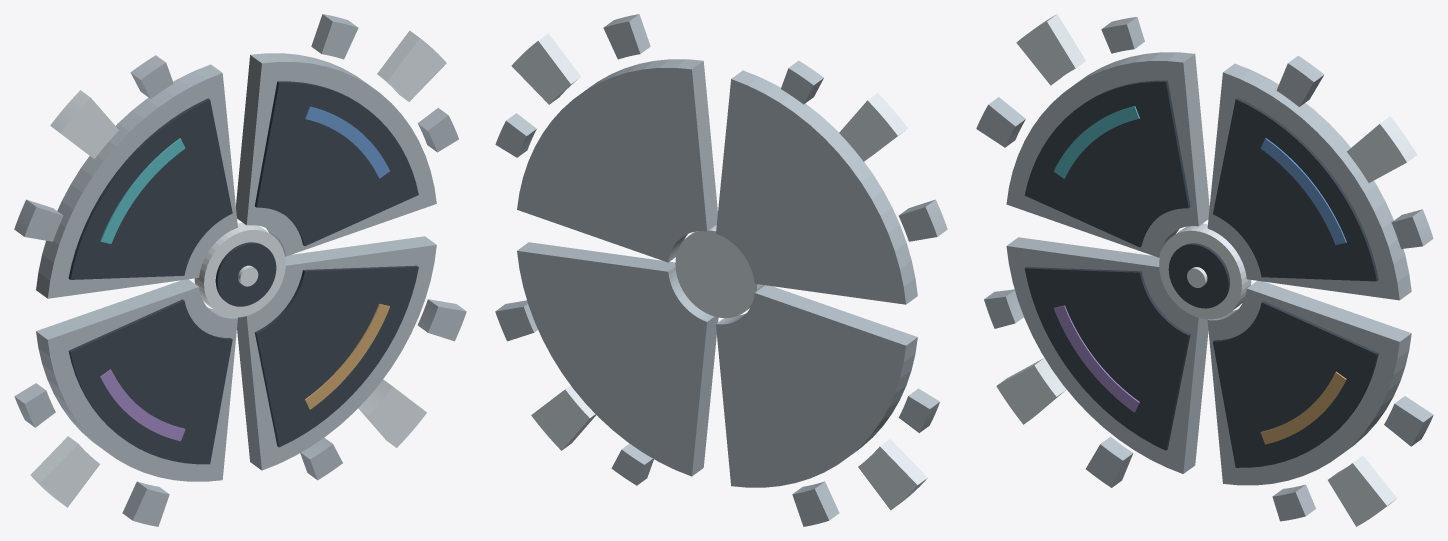
The model's file is stack_iris.glb.
3 renders of one model, left to right at view 1: azimuth 30°, elevation 25°; view 2: azimuth 150°, elevation 25°; view 3: azimuth 330°, elevation 25°, orthographic.
Parts seen in each view (by area): view 1: STACK / sector 02 inset, STACK / sector 04 inset, STACK / sector 01 inset, STACK / sector 03 inset, STACK / sector 02 body, STACK / sector 04 body, STACK / sector 03 body, STACK / sector 01 body, STACK / central bearing, STACK / central recess, STACK / fragment 03 02, STACK / fragment 01 02 (+14 smaller); view 2: STACK / sector 02 body, STACK / sector 04 body, STACK / sector 03 body, STACK / sector 01 body, STACK / central bearing, STACK / fragment 01 02, STACK / fragment 03 02, STACK / fragment 02 02, STACK / fragment 04 02, STACK / fragment 01 03, STACK / fragment 03 03, STACK / fragment 02 03 (+5 smaller); view 3: STACK / sector 03 inset, STACK / sector 01 inset, STACK / sector 02 inset, STACK / sector 04 inset, STACK / sector 01 body, STACK / sector 03 body, STACK / sector 04 body, STACK / sector 02 body, STACK / central bearing, STACK / central recess, STACK / fragment 04 02, STACK / fragment 02 02 (+14 smaller).
Boxes of the visible parts, x1=… form: STACK / sector 02 inset: x1=68, y1=98, x2=232, y2=279; STACK / sector 04 inset: x1=254, y1=265, x2=418, y2=447; STACK / sector 01 inset: x1=255, y1=81, x2=418, y2=245; STACK / sector 03 inset: x1=68, y1=299, x2=232, y2=464; STACK / sector 02 body: x1=36, y1=64, x2=237, y2=298; STACK / sector 04 body: x1=237, y1=236, x2=436, y2=470; STACK / sector 03 body: x1=36, y1=279, x2=237, y2=481; STACK / sector 01 body: x1=236, y1=53, x2=436, y2=256; STACK / central bearing: x1=194, y1=223, x2=285, y2=317; STACK / central recess: x1=215, y1=242, x2=276, y2=306; STACK / fragment 03 02: x1=30, y1=436, x2=99, y2=507; STACK / fragment 01 02: x1=377, y1=30, x2=446, y2=101; STACK / sector 02 body: x1=716, y1=70, x2=917, y2=304; STACK / sector 04 body: x1=517, y1=242, x2=718, y2=476; STACK / sector 03 body: x1=716, y1=285, x2=917, y2=487; STACK / sector 01 body: x1=517, y1=59, x2=717, y2=262; STACK / central bearing: x1=675, y1=225, x2=764, y2=318; STACK / fragment 01 02: x1=511, y1=33, x2=580, y2=104; STACK / fragment 03 02: x1=858, y1=439, x2=927, y2=510; STACK / fragment 02 02: x1=839, y1=93, x2=907, y2=161; STACK / fragment 04 02: x1=531, y1=385, x2=595, y2=450; STACK / fragment 01 03: x1=603, y1=14, x2=650, y2=59; STACK / fragment 03 03: x1=792, y1=481, x2=839, y2=526; STACK / fragment 02 03: x1=898, y1=199, x2=947, y2=241; STACK / sector 03 inset: x1=1024, y1=267, x2=1190, y2=450; STACK / sector 01 inset: x1=1213, y1=98, x2=1378, y2=281; STACK / sector 02 inset: x1=1024, y1=80, x2=1190, y2=247; STACK / sector 04 inset: x1=1213, y1=301, x2=1378, y2=467; STACK / sector 01 body: x1=1207, y1=63, x2=1411, y2=300; STACK / sector 03 body: x1=1006, y1=237, x2=1208, y2=473; STACK / sector 04 body: x1=1207, y1=280, x2=1411, y2=485; STACK / sector 02 body: x1=1006, y1=52, x2=1209, y2=257; STACK / central bearing: x1=1159, y1=223, x2=1251, y2=319; STACK / central recess: x1=1168, y1=243, x2=1229, y2=308; STACK / fragment 04 02: x1=1328, y1=455, x2=1397, y2=526; STACK / fragment 02 02: x1=1016, y1=14, x2=1085, y2=85.
Bounding box in the file's own units: 3.46 × 3.46 × 0.255.
